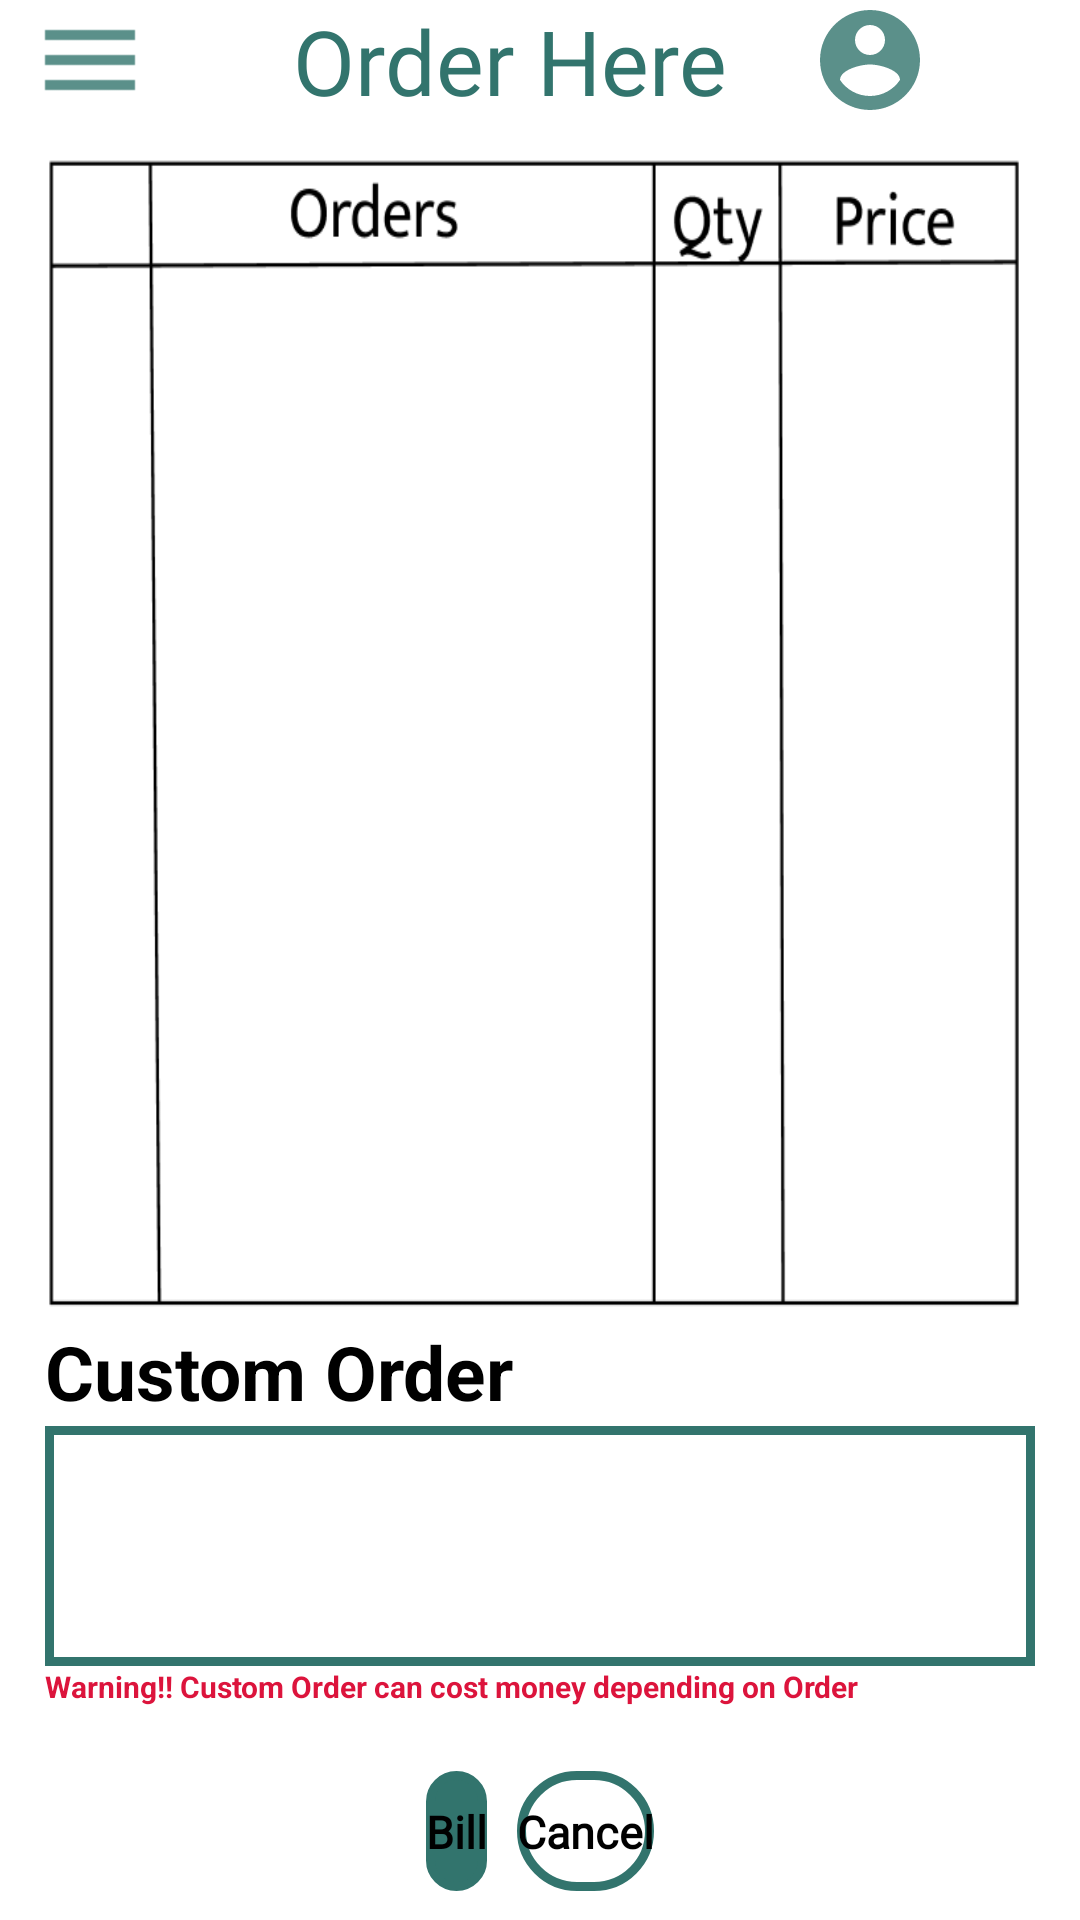

Named icons in this screenshot (1080w x 1920h) and their bounding boxes, (x1, y1, x2, y2):
Menu: (44, 29, 136, 91)
profile: (820, 10, 920, 110)
